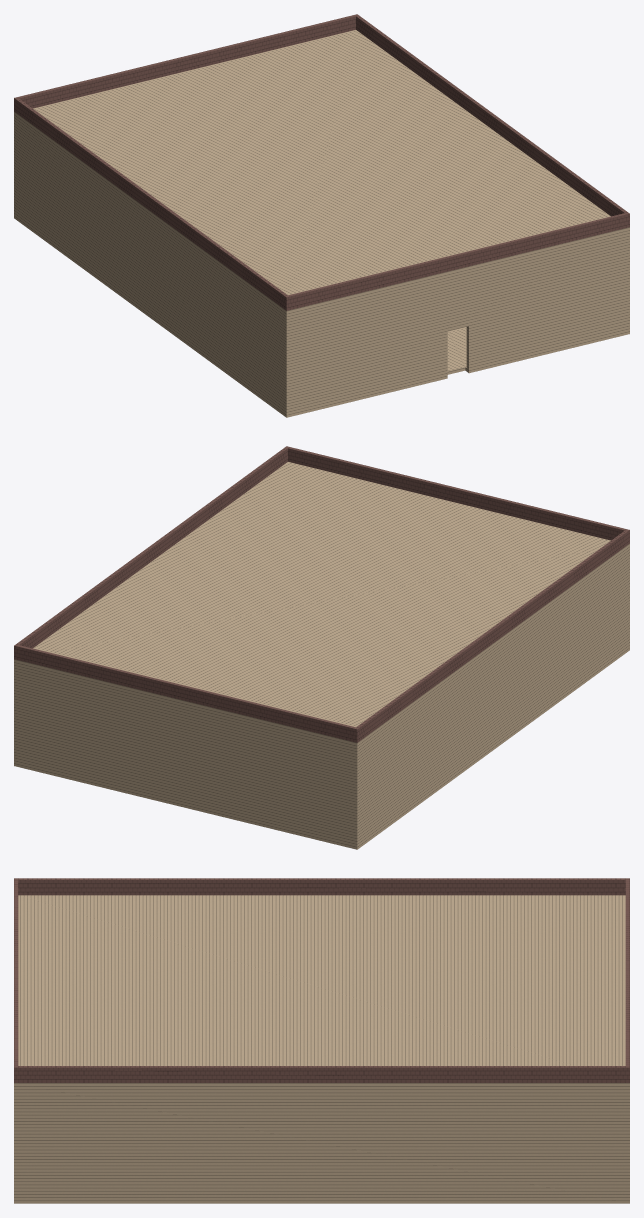
Rendered from library.glb.
3 renders of one model, top to bottom at view 1: azimuth 30°, elevation 25°; view 2: azimuth 150°, elevation 25°; view 3: azimuth 270°, elevation 25°, orthographic. The views are drawn at different scales.
Visible parts, largest first — view 1: library-col; view 2: library-col; view 3: library-col.
Boxes of the visible parts, left/top/right/bottom form: library-col: left=14, top=14, right=629, bottom=417; library-col: left=14, top=446, right=629, bottom=849; library-col: left=14, top=878, right=629, bottom=1203.
Bounding box in the file's own units: 16 × 5.36 × 22.
2 materials, 2 textured.
